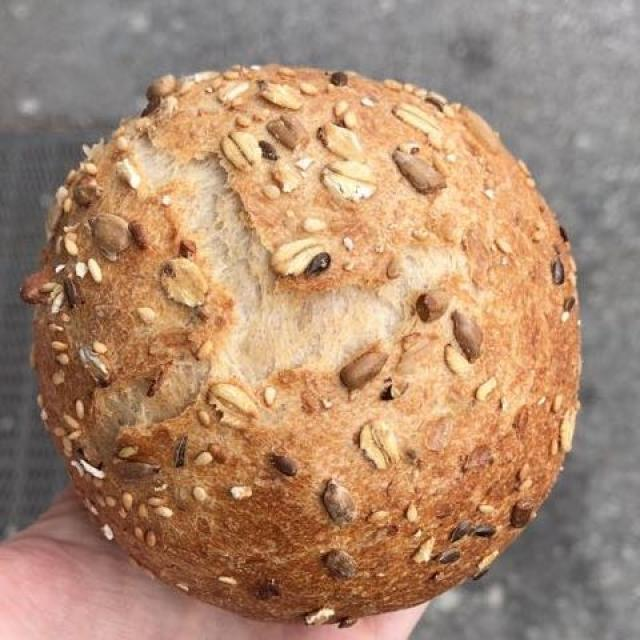bread: (30, 78, 570, 614)
